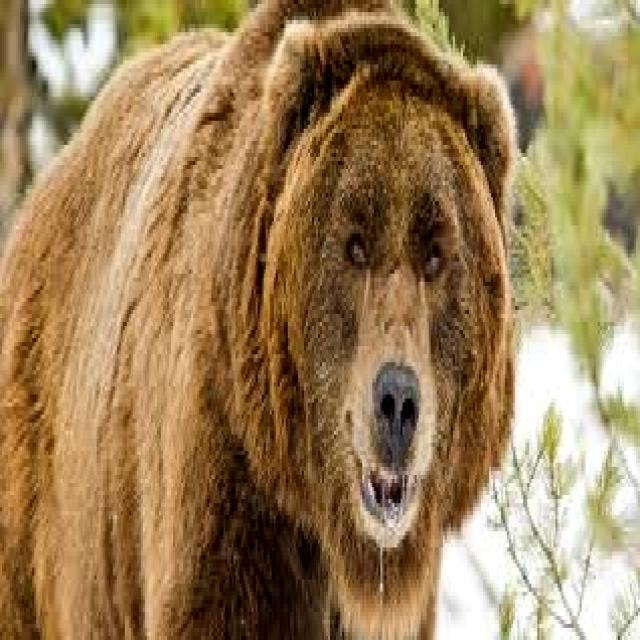bear: (2, 0, 506, 618)
